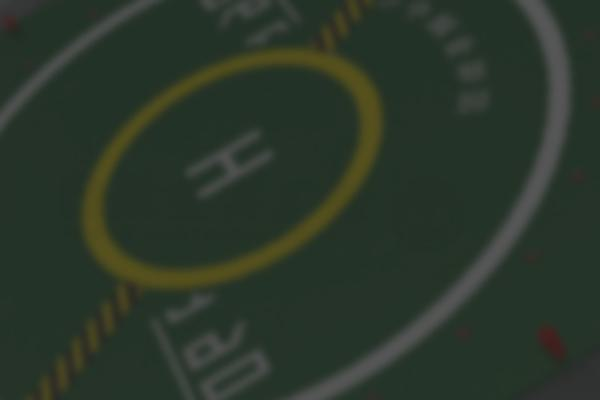Apron: (71, 48, 387, 287)
